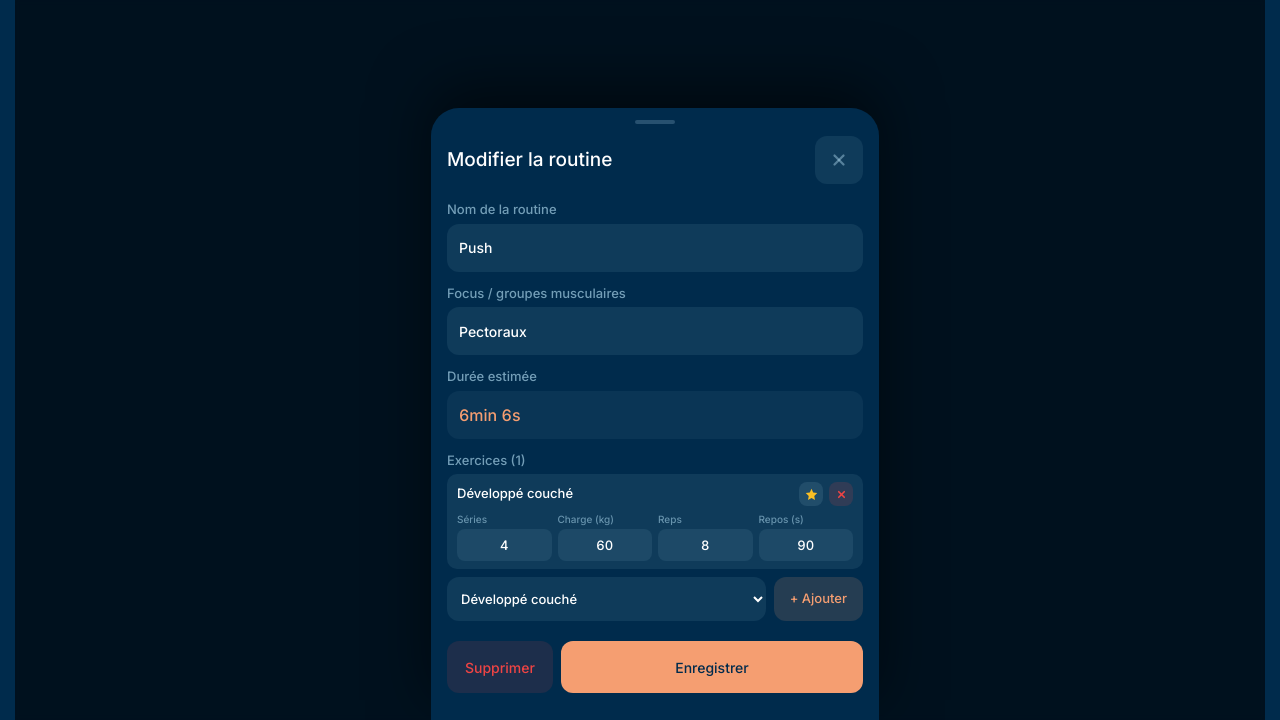
RoutineEditorSheet — confirmation de suppression › laisse annuler sans supprimer
This screenshot has width=1280, height=720.
Click the button "Supprimer" at (500, 667), box [447,641,553,693]
(page scrolled)
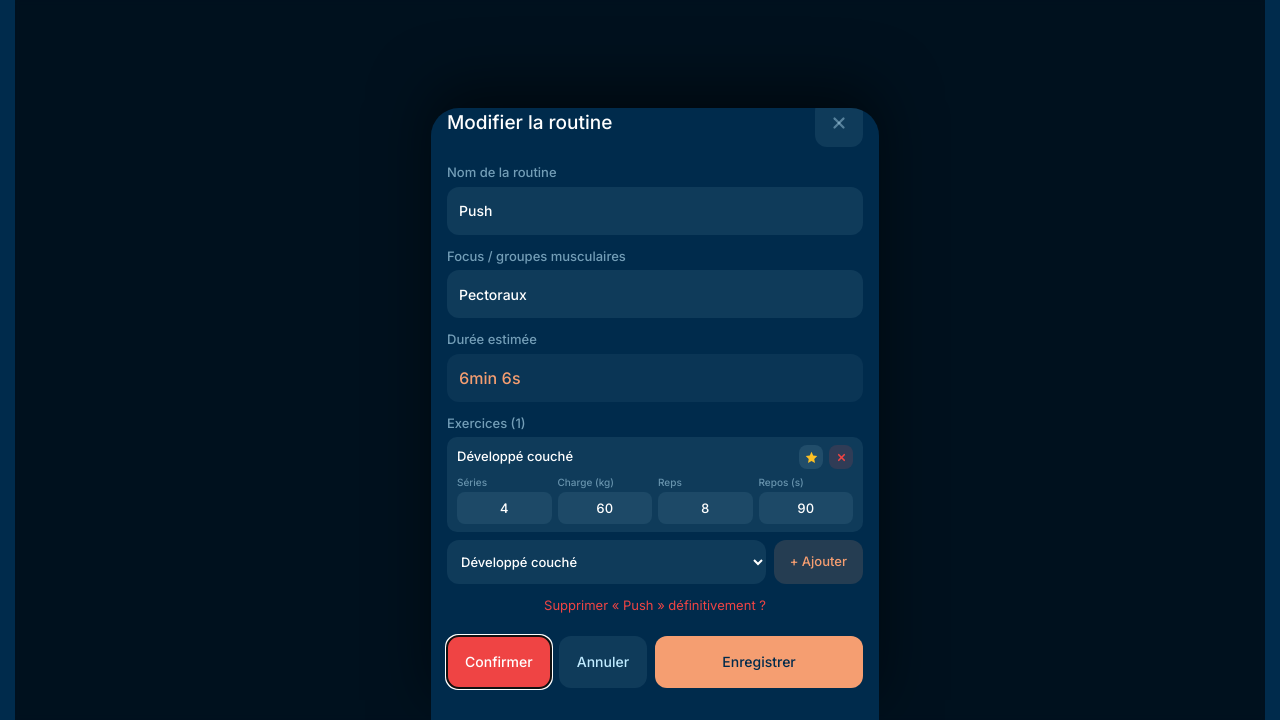
Click the button "Annuler" at (603, 662), box [559,636,647,688]
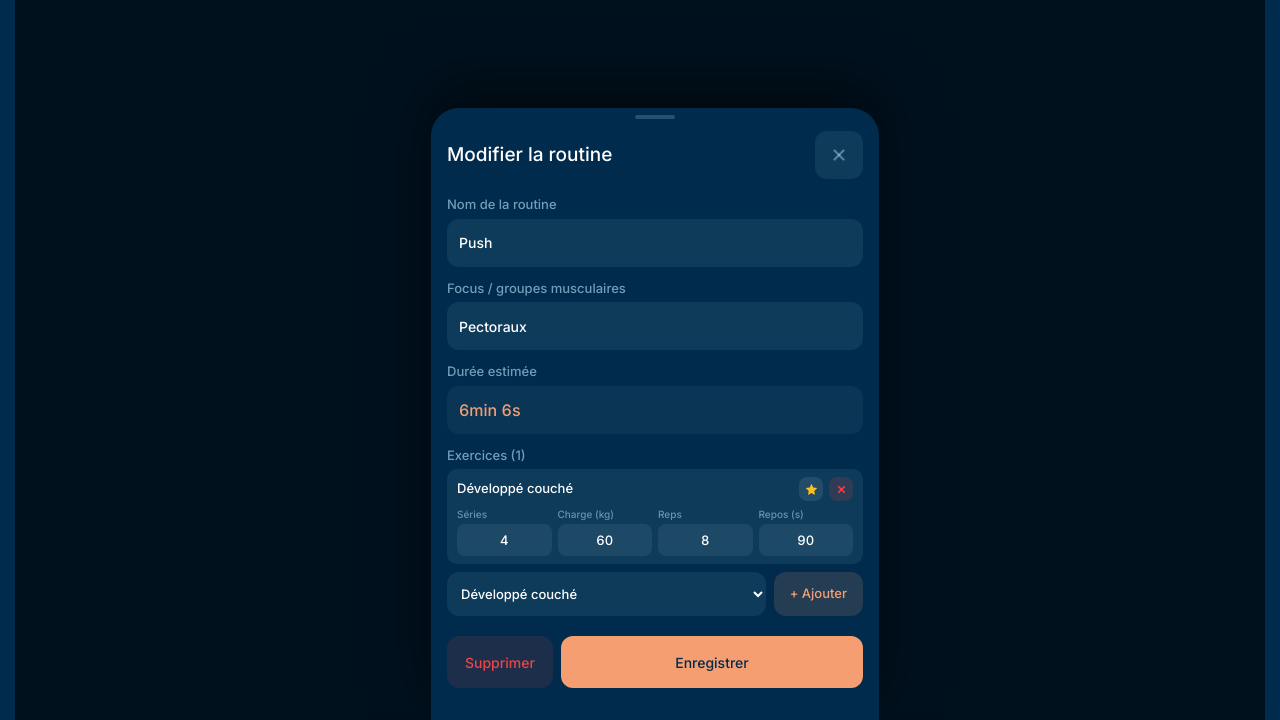
Check: the button "Supprimer" is shown, box [447,636,553,688]
